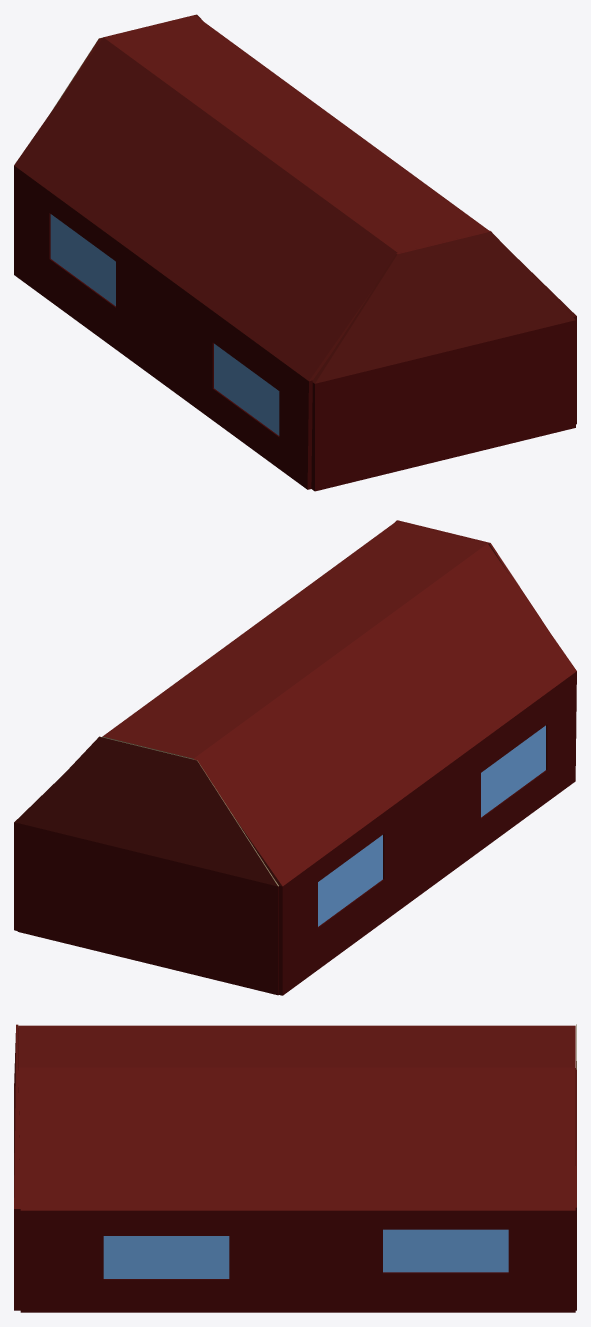
File: HouseWalls.fbx
The picture shows the model from 3 angles, top to bottom: view 1: azimuth 30°, elevation 25°; view 2: azimuth 150°, elevation 25°; view 3: azimuth 270°, elevation 25°; orthographic projection. The views are drawn at different scales.
Parts seen in each view (by area): view 1: Cube, Window1, Window3; view 2: Cube, Window3, Window1; view 3: Cube, Window2, Window4.
Boxes of the visible parts, x1=… form: Cube: x1=14, y1=14, x2=576, y2=491; Window1: x1=50, y1=214, x2=115, y2=305; Window3: x1=214, y1=343, x2=279, y2=435; Cube: x1=14, y1=520, x2=576, y2=995; Window3: x1=481, y1=725, x2=545, y2=817; Window1: x1=318, y1=835, x2=382, y2=926; Cube: x1=14, y1=1024, x2=576, y2=1312; Window2: x1=383, y1=1229, x2=508, y2=1272; Window4: x1=103, y1=1236, x2=229, y2=1278.
Bounding box in the file's own units: 1868 × 1431 × 3578.
